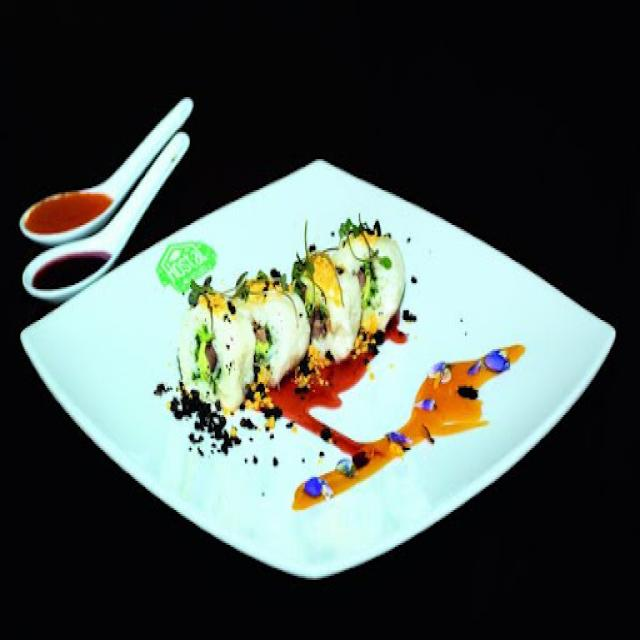non-organic waste: (22, 184, 628, 584)
